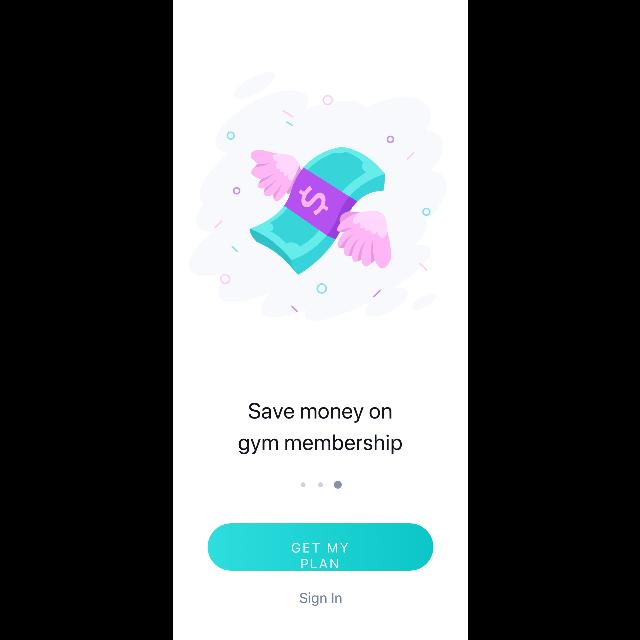image: (187, 72, 447, 322)
pageindicator: (300, 481, 342, 489)
text: (238, 403, 402, 455), (299, 592, 341, 606)
textbutton: (207, 524, 433, 570)
